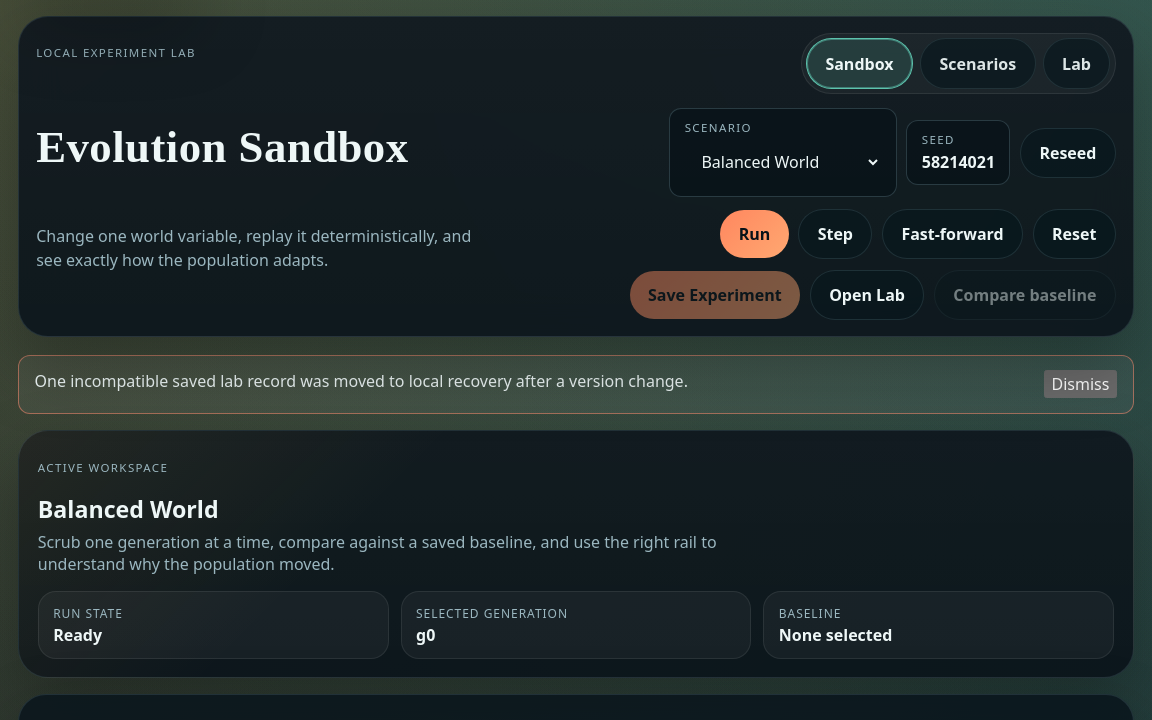
Test: lab recovery session › threads quarantine summaries into Lab and announces the recovery notice
Click the tab "Lab" at (1076, 64), box [1043,38,1110,89]
(page scrolled)
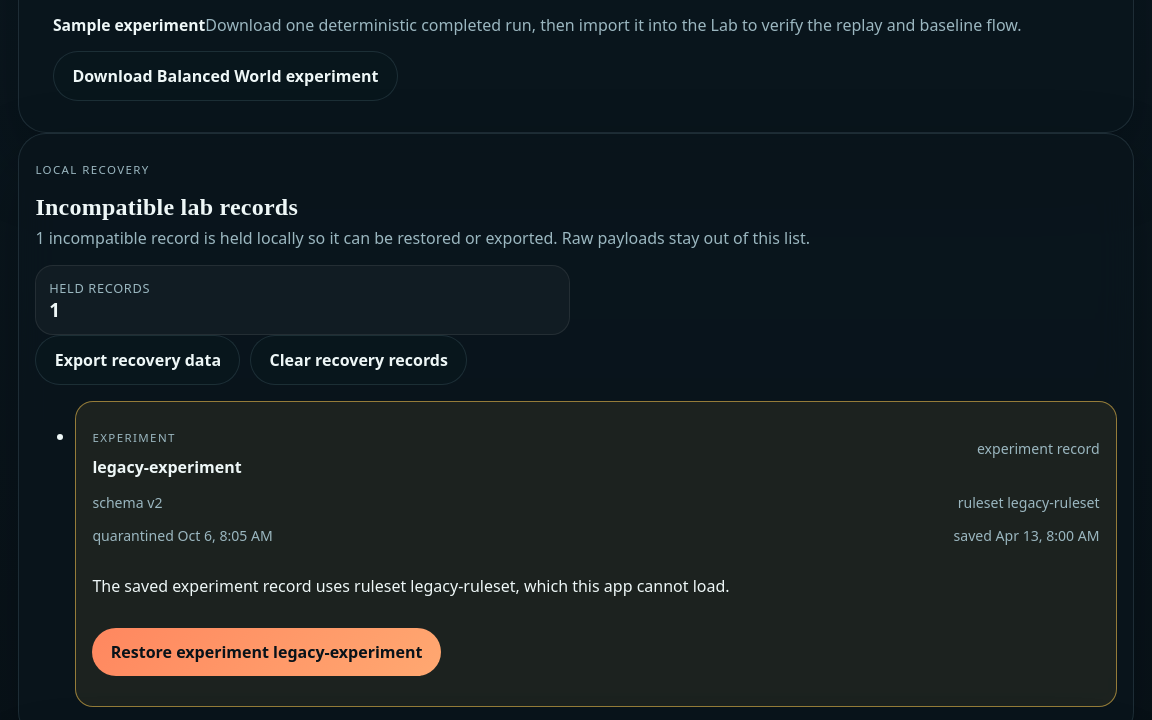
Now the heading "Incompatible lab records" is shown, box [35,194,298,220]
Now the text "legacy-experiment" is shown, box [92,456,242,478]
Now the button "Restore experiment legacy-experiment" is shown, box [92,628,441,676]
